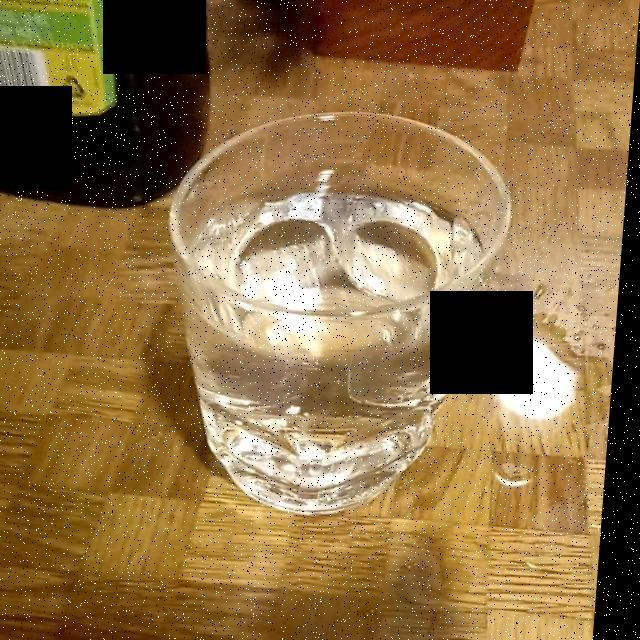water: (194, 191, 484, 495)
